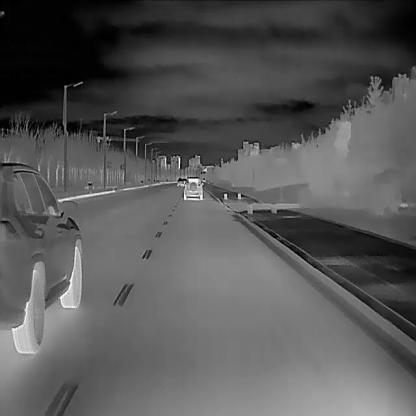car: (0, 161, 83, 354), (182, 176, 204, 200), (176, 177, 182, 186), (182, 178, 187, 185)
